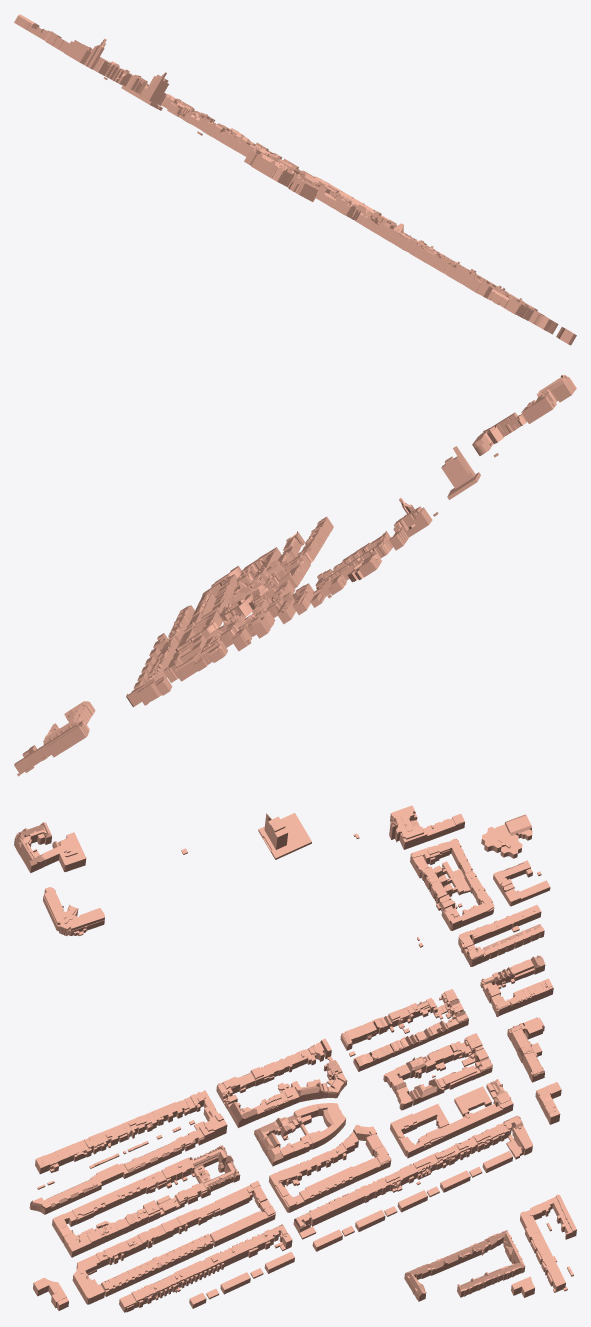
3 renders of one model, top to bottom at view 1: azimuth 30°, elevation 25°; view 2: azimuth 150°, elevation 25°; view 3: azimuth 270°, elevation 25°, orthographic. The views are drawn at different scales.
Size of the model in its own units: 1.75e+07 by 1.33e+07 by 2.09e+07.
